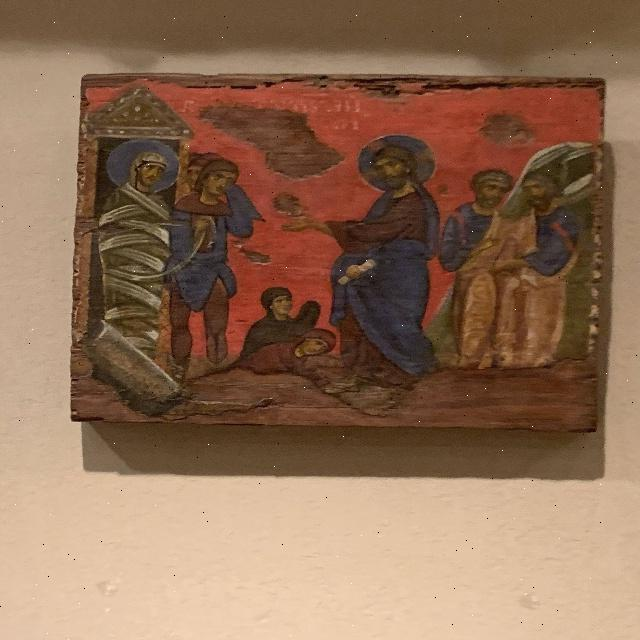christ_miracle: (288, 129, 443, 396)
lazarus_tomb: (71, 83, 207, 397)
raising_of_lazarus: (74, 83, 608, 413)
